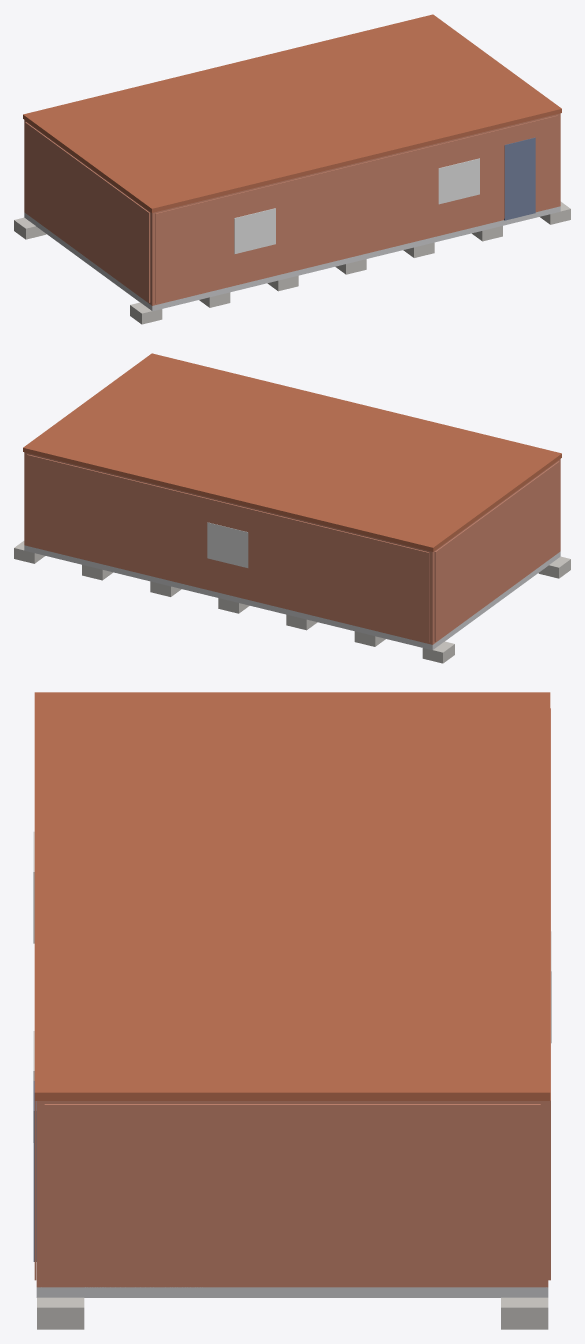
File: Studio-40-Base-BrickRed-LOD3.glb
3 views of the same model, one above another, from view 1: azimuth 30°, elevation 25°; view 2: azimuth 150°, elevation 25°; view 3: azimuth 270°, elevation 25° (orthographic). The views are drawn at different scales.
Parts seen in each view (by area): view 1: RoofMain, ExteriorPanelsStandard, BaseFrame, WindowsStandard, ExteriorShell, FoundationBlocks, EntryDoor; view 2: RoofMain, ExteriorPanelsStandard, BaseFrame, ExteriorShell, FoundationBlocks, WindowsStandard; view 3: RoofMain, ExteriorPanelsStandard, ExteriorShell, BaseFrame, FoundationBlocks.
Part boxes in pixels (left/top/right/bottom): RoofMain: left=23, top=14, right=561, bottom=212; ExteriorPanelsStandard: left=25, top=115, right=557, bottom=303; BaseFrame: left=24, top=206, right=560, bottom=311; WindowsStandard: left=234, top=158, right=479, bottom=254; ExteriorShell: left=24, top=113, right=560, bottom=305; FoundationBlocks: left=14, top=201, right=570, bottom=324; EntryDoor: left=504, top=137, right=535, bottom=220; RoofMain: left=23, top=353, right=561, bottom=551; ExteriorPanelsStandard: left=27, top=454, right=559, bottom=642; BaseFrame: left=24, top=545, right=560, bottom=650; ExteriorShell: left=24, top=452, right=560, bottom=644; FoundationBlocks: left=14, top=541, right=570, bottom=663; WindowsStandard: left=207, top=522, right=248, bottom=567; RoofMain: left=34, top=692, right=550, bottom=1100; ExteriorPanelsStandard: left=34, top=708, right=550, bottom=1284; ExteriorShell: left=36, top=1101, right=548, bottom=1287; BaseFrame: left=36, top=1287, right=548, bottom=1297; FoundationBlocks: left=37, top=1297, right=548, bottom=1329.
Bounding box in the file's own units: 12.49 × 3.17 × 6.53.
